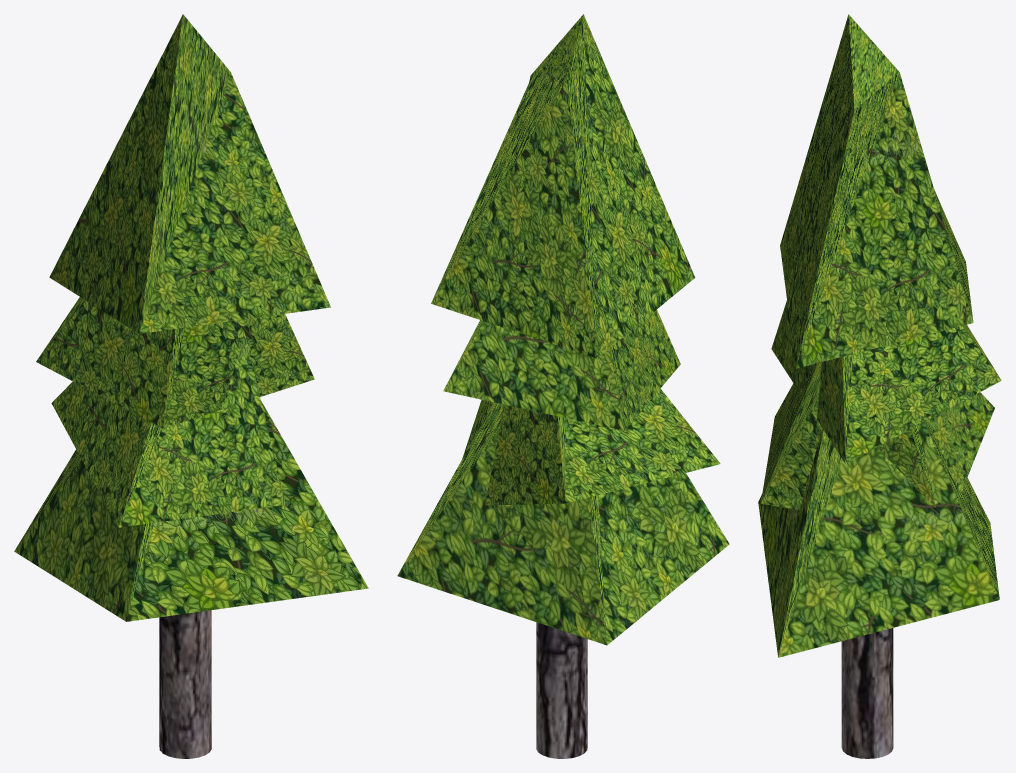
The model's file is tree 3d platformer.fbx.
3 views of the same model, side by side, from view 1: azimuth 30°, elevation 25°; view 2: azimuth 150°, elevation 25°; view 3: azimuth 270°, elevation 25° (orthographic). The views are drawn at different scales.
Visible parts, largest first — view 1: pCube4, pCube2, pCube1, pCube3, pCylinder1; view 2: pCube4, pCube2, pCube1, pCube3, pCylinder1; view 3: pCube4, pCube2, pCube3, pCube1, pCylinder1.
Boxes of the visible parts, x1,y1,x2,y2 form: pCube4: (49, 14, 330, 333); pCube2: (14, 401, 368, 621); pCube1: (51, 333, 285, 527); pCube3: (36, 297, 314, 428); pCylinder1: (159, 610, 211, 758); pCube4: (431, 14, 695, 358); pCube2: (397, 402, 729, 645); pCube1: (462, 388, 720, 505); pCube3: (443, 309, 680, 430); pCylinder1: (536, 622, 587, 758); pCube4: (780, 14, 973, 368); pCube2: (758, 420, 999, 657); pCube3: (771, 300, 1001, 463); pCube1: (760, 362, 994, 510); pCylinder1: (841, 628, 893, 758).
Bounding box in the file's own units: 2.44 × 6.87 × 2.08.
